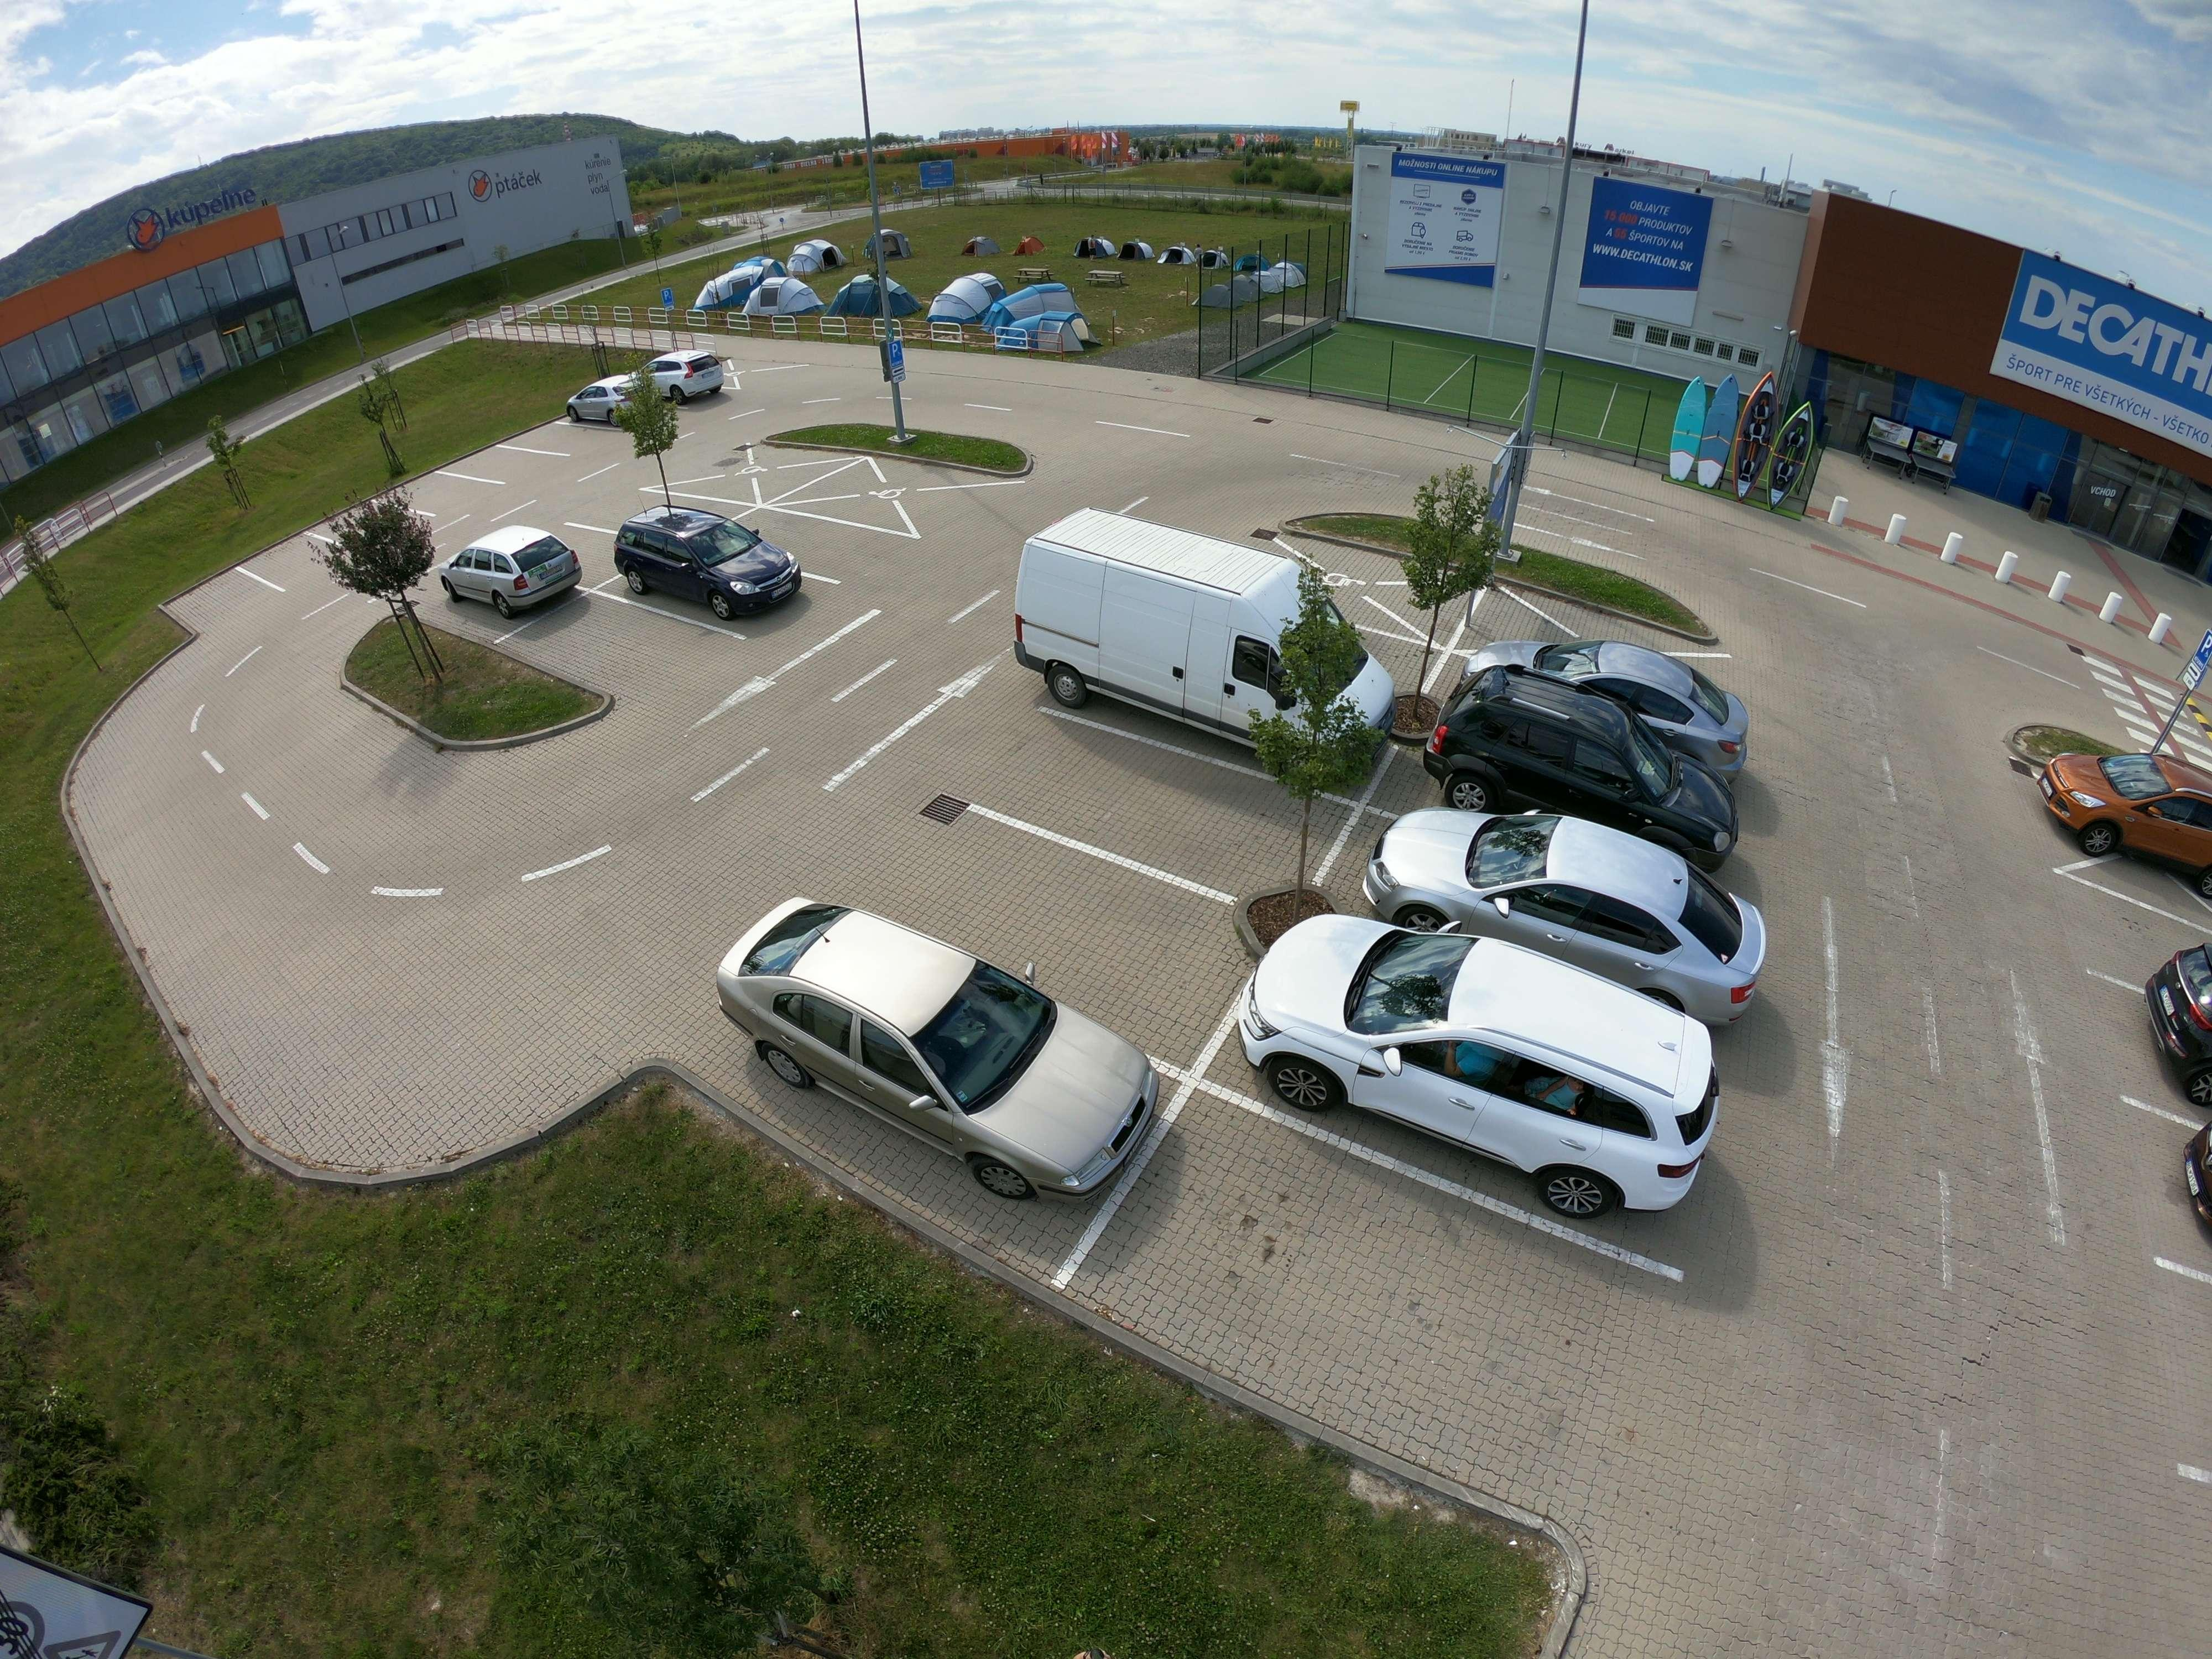empty: (721, 889, 1165, 1185), (1244, 917, 1723, 1175), (996, 525, 1395, 779), (1364, 800, 1749, 992), (1425, 683, 1721, 842), (1479, 631, 1740, 746), (2031, 742, 2210, 896), (604, 504, 810, 624), (0, 1525, 167, 1659), (435, 523, 585, 617), (312, 504, 448, 594), (2156, 955, 2212, 1098), (648, 347, 742, 408), (557, 376, 643, 430)
occupied: (1242, 1232, 1460, 1389), (928, 856, 1111, 978), (1050, 753, 1195, 836), (763, 500, 855, 584), (556, 610, 667, 676), (254, 533, 334, 589), (514, 415, 589, 457), (404, 476, 472, 518), (470, 444, 533, 486)
